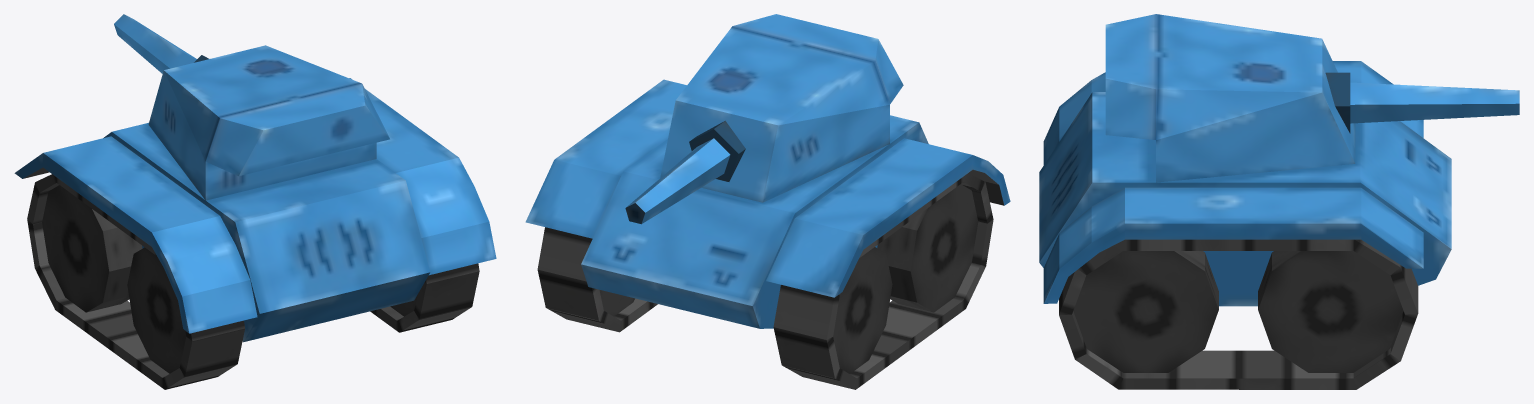
File: tank1.glb
3 renders of one model, left to right at view 1: azimuth 30°, elevation 25°; view 2: azimuth 150°, elevation 25°; view 3: azimuth 270°, elevation 25°, orthographic. The views are drawn at different scales.
Parts seen in each view (by area): view 1: Tank; view 2: Tank; view 3: Tank.
Boxes of the visible parts, x1,y1,x2,y2 form: Tank: (14,14,496,389); Tank: (525,14,1010,389); Tank: (1039,14,1519,389).
Size of the model in its own units: 1.77 by 1.33 by 2.21.
1 material, 1 textured.
